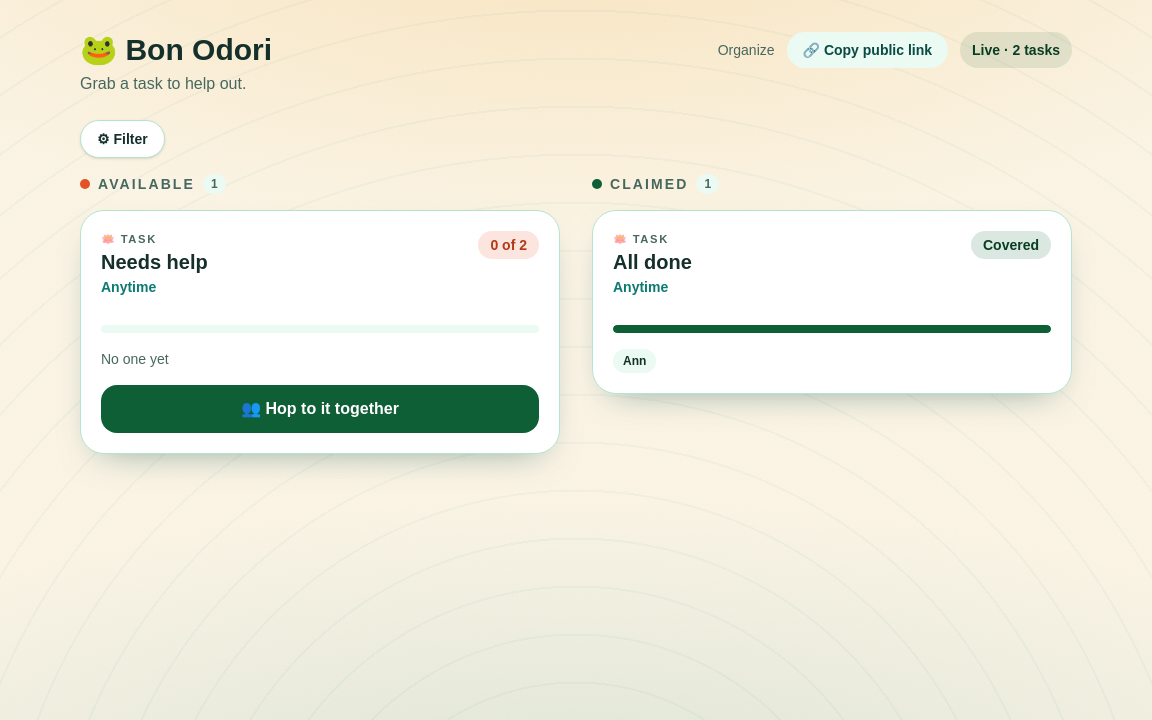
Test: copy public link copies origin + pathname and flips to Copied
Click the button "🔗 Copy public link" at (867, 50), box [786,32,948,68]
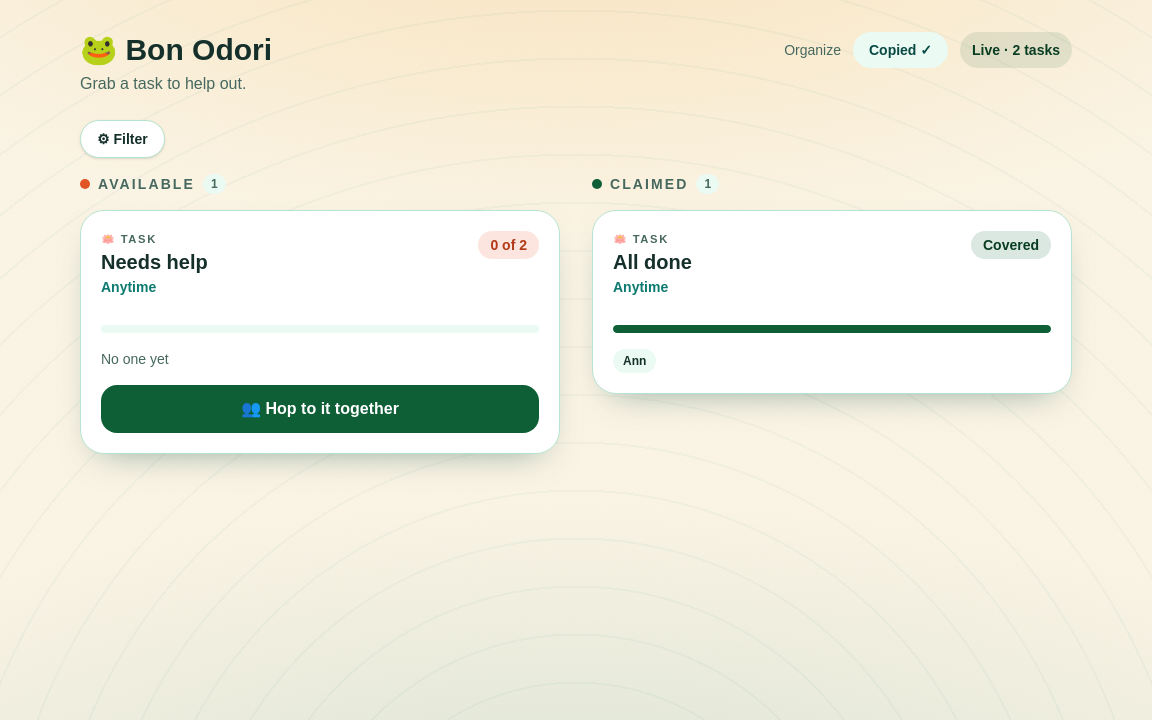
Check: the button "Copied ✓" is shown, box [853,32,948,68]
